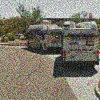buses: (61, 21, 100, 64), (25, 23, 64, 54)
